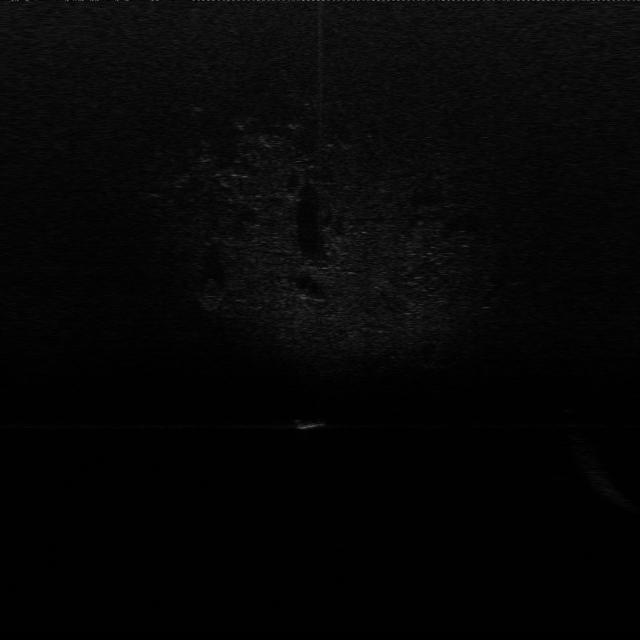square cage: (286, 412, 330, 434)
